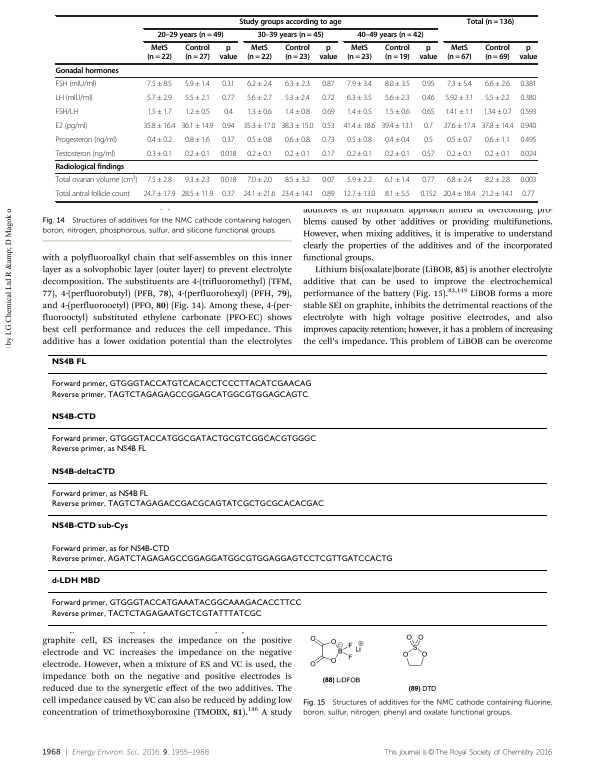borderless: (47, 353, 547, 625), (54, 14, 537, 201)
cell: (50, 554, 393, 564), (50, 499, 324, 509), (50, 434, 317, 444), (50, 390, 309, 400), (50, 380, 312, 389), (50, 599, 302, 608), (50, 609, 262, 619), (50, 544, 170, 554), (50, 489, 148, 499), (238, 18, 342, 27), (55, 174, 138, 185), (50, 445, 147, 454), (50, 522, 129, 531), (256, 31, 325, 41), (55, 190, 131, 199), (156, 31, 224, 41), (356, 31, 424, 41), (50, 467, 116, 477), (55, 66, 120, 76), (55, 135, 118, 145), (55, 163, 125, 172), (55, 149, 116, 159), (146, 44, 173, 63), (184, 44, 211, 63), (246, 44, 273, 63), (284, 44, 311, 63), (346, 44, 373, 63), (384, 44, 411, 63), (446, 44, 473, 63), (484, 44, 511, 63), (50, 412, 96, 422), (50, 577, 100, 586), (466, 18, 515, 27), (55, 79, 97, 89), (55, 93, 94, 103), (318, 44, 338, 63), (418, 44, 438, 63), (518, 44, 538, 63), (219, 44, 238, 63), (142, 121, 176, 131), (180, 121, 214, 131), (242, 121, 276, 131), (280, 121, 314, 131), (342, 121, 376, 131), (380, 121, 414, 131), (442, 121, 476, 131), (480, 121, 514, 131), (50, 358, 87, 367), (55, 121, 88, 131), (444, 107, 475, 117), (482, 107, 513, 117), (142, 190, 176, 199), (180, 190, 214, 199), (242, 190, 276, 199), (280, 190, 314, 199), (342, 190, 376, 199), (442, 190, 476, 199), (480, 190, 514, 199), (444, 93, 474, 103), (146, 79, 173, 89), (184, 79, 211, 89), (246, 79, 273, 89), (284, 79, 311, 89), (346, 79, 373, 89), (384, 79, 411, 89), (446, 79, 473, 89), (484, 79, 511, 89), (146, 93, 173, 103), (184, 93, 211, 103), (246, 93, 273, 103), (284, 93, 311, 103), (346, 93, 373, 103), (384, 93, 411, 103), (484, 93, 511, 103), (146, 107, 173, 117), (184, 107, 211, 117), (246, 107, 273, 117), (284, 107, 311, 117), (346, 107, 373, 117), (384, 107, 411, 117), (146, 135, 173, 145), (184, 135, 211, 145), (246, 135, 273, 145), (284, 135, 311, 145), (346, 135, 373, 145), (384, 135, 411, 145), (446, 135, 473, 145), (484, 135, 511, 145), (146, 149, 173, 159), (184, 149, 211, 159), (246, 149, 273, 159), (284, 149, 311, 159), (346, 149, 373, 159), (384, 149, 411, 159), (446, 149, 473, 159), (484, 149, 511, 159), (146, 176, 173, 185), (184, 176, 211, 185), (246, 176, 273, 185), (284, 176, 311, 185), (346, 176, 373, 185), (384, 176, 411, 185), (446, 176, 473, 185), (484, 176, 511, 185), (384, 190, 411, 199), (55, 107, 79, 117), (519, 79, 537, 89), (519, 93, 537, 103), (519, 107, 537, 117), (519, 121, 537, 131), (519, 135, 537, 145), (219, 149, 237, 159), (519, 149, 537, 159), (219, 176, 237, 185), (519, 176, 537, 185), (419, 190, 437, 199), (221, 79, 236, 89), (321, 79, 336, 89), (321, 107, 336, 117), (421, 107, 436, 117), (321, 121, 336, 131), (221, 135, 236, 145), (321, 135, 336, 145), (321, 149, 336, 159), (421, 79, 435, 89), (221, 93, 235, 103), (321, 93, 335, 103), (421, 93, 435, 103), (221, 121, 235, 131), (421, 149, 435, 159), (321, 176, 336, 185), (321, 190, 336, 199), (421, 176, 435, 185), (221, 190, 235, 199), (521, 190, 535, 199), (223, 107, 234, 117), (423, 121, 434, 131), (423, 135, 434, 145)
